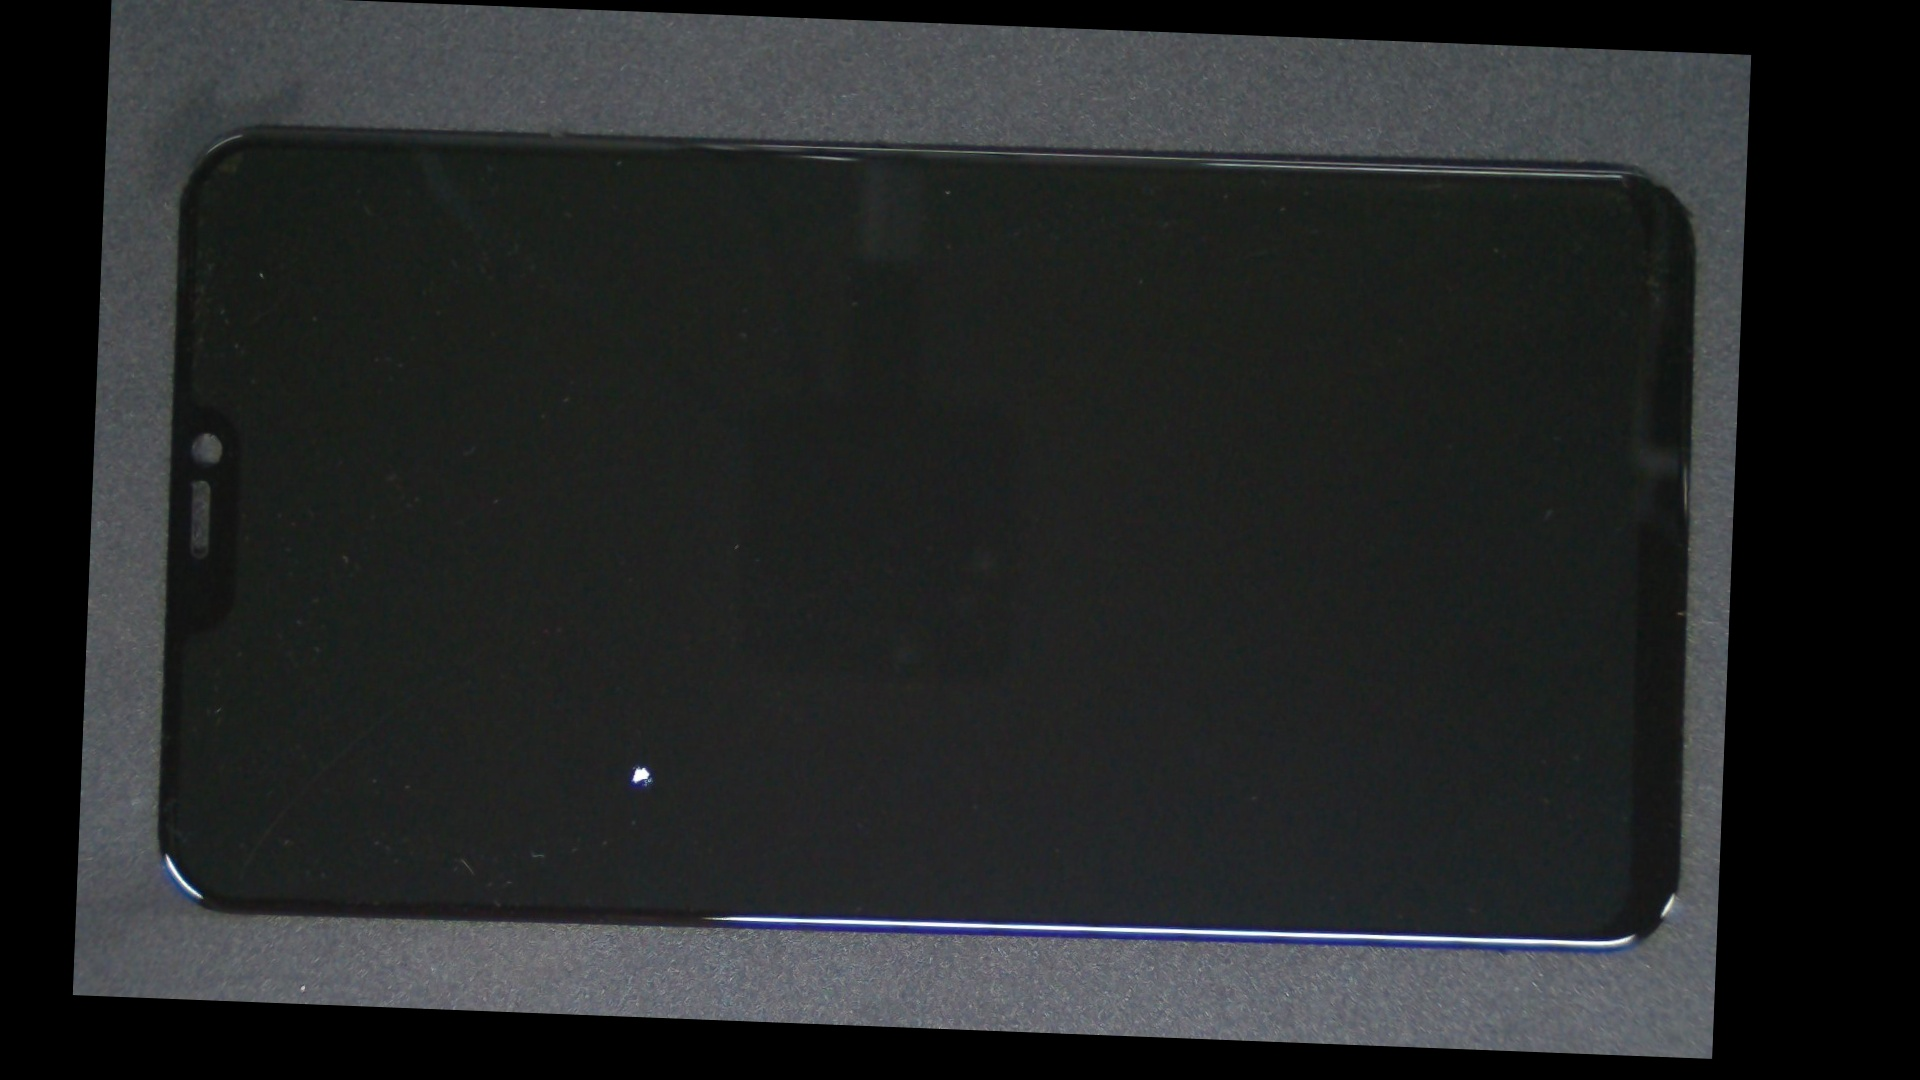oil: (355, 377, 940, 1029)
